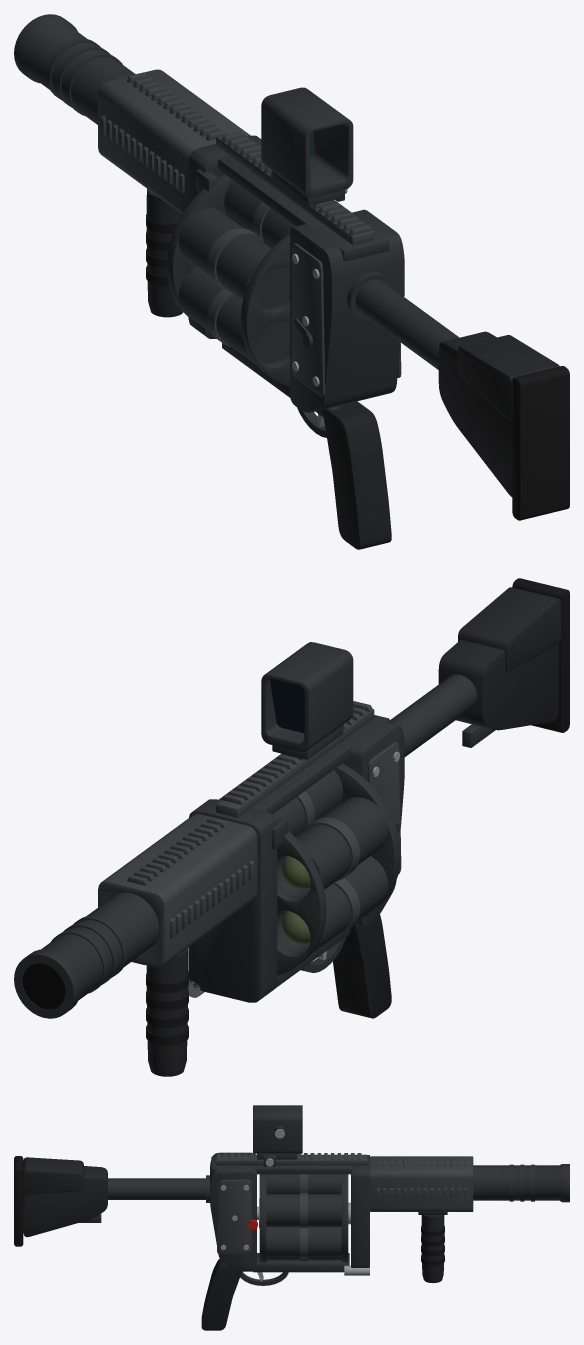
The picture shows the model from 3 angles, top to bottom: view 1: azimuth 30°, elevation 25°; view 2: azimuth 150°, elevation 25°; view 3: azimuth 270°, elevation 25°; orthographic projection. The views are drawn at different scales.
Parts seen in each view (by area): view 1: Body, Front, Drum; view 2: Body, Front, Drum, Round4, Round5; view 3: Body, Front, Drum.
Boxes of the visible parts, left/top/right/bottom form: Body: left=216, top=87, right=569, bottom=549; Front: left=14, top=14, right=261, bottom=338; Drum: left=167, top=174, right=295, bottom=386; Body: left=202, top=578, right=569, bottom=1018; Front: left=14, top=799, right=287, bottom=1076; Drum: left=272, top=763, right=400, bottom=975; Round4: left=281, top=910, right=310, bottom=944; Round5: left=281, top=856, right=310, bottom=889; Body: left=14, top=1105, right=369, bottom=1330; Front: left=344, top=1155, right=569, bottom=1282; Drum: left=259, top=1174, right=350, bottom=1262.
Bounding box in the file's own units: 0.147 × 0.356 × 0.828.
